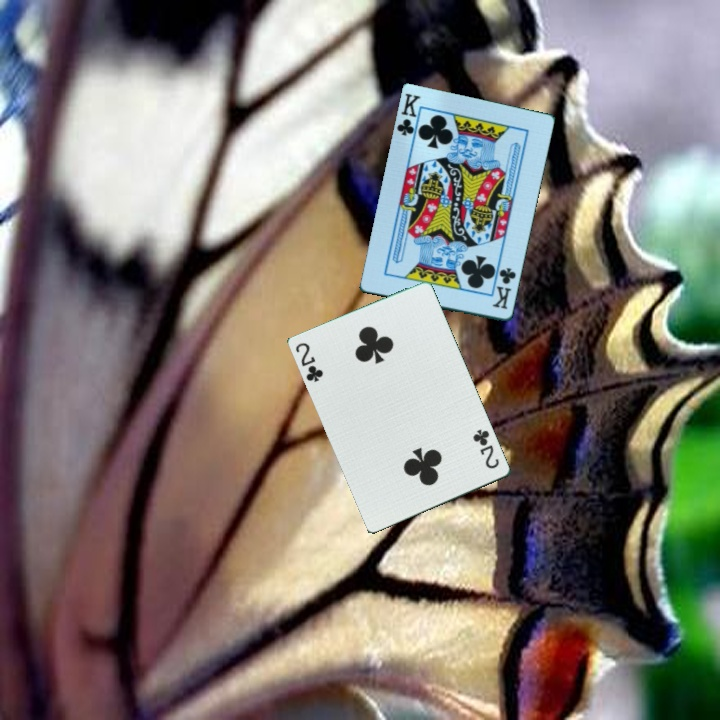2c: (292, 339, 327, 385), (470, 425, 503, 472)
Kc: (393, 90, 424, 146), (489, 264, 519, 312)
